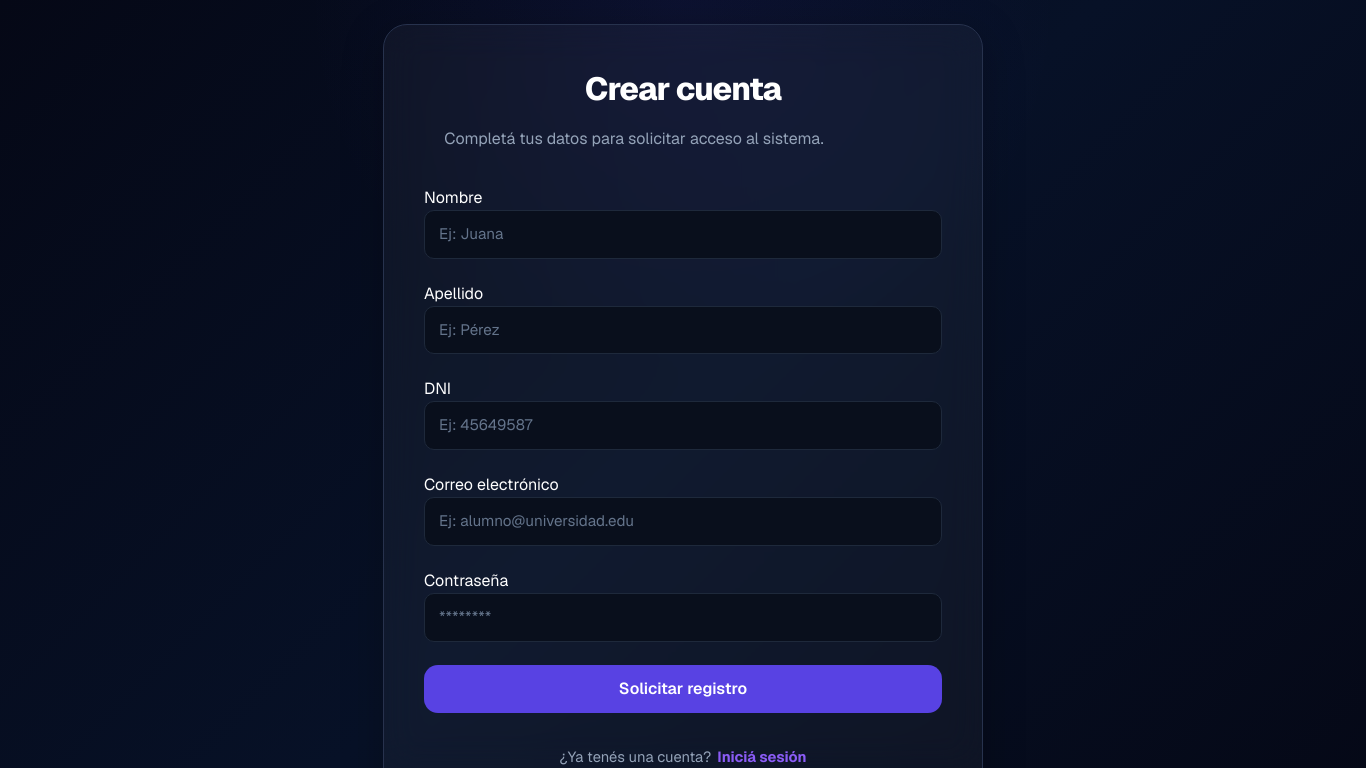
Pagina registro › muestra error genérico cuando backend rechaza sin mensaje
This screenshot has width=1366, height=768.
Step 1. Type "Ana" into the field with placeholder "Ej: Juana" → (683, 234), box [424, 210, 942, 259]
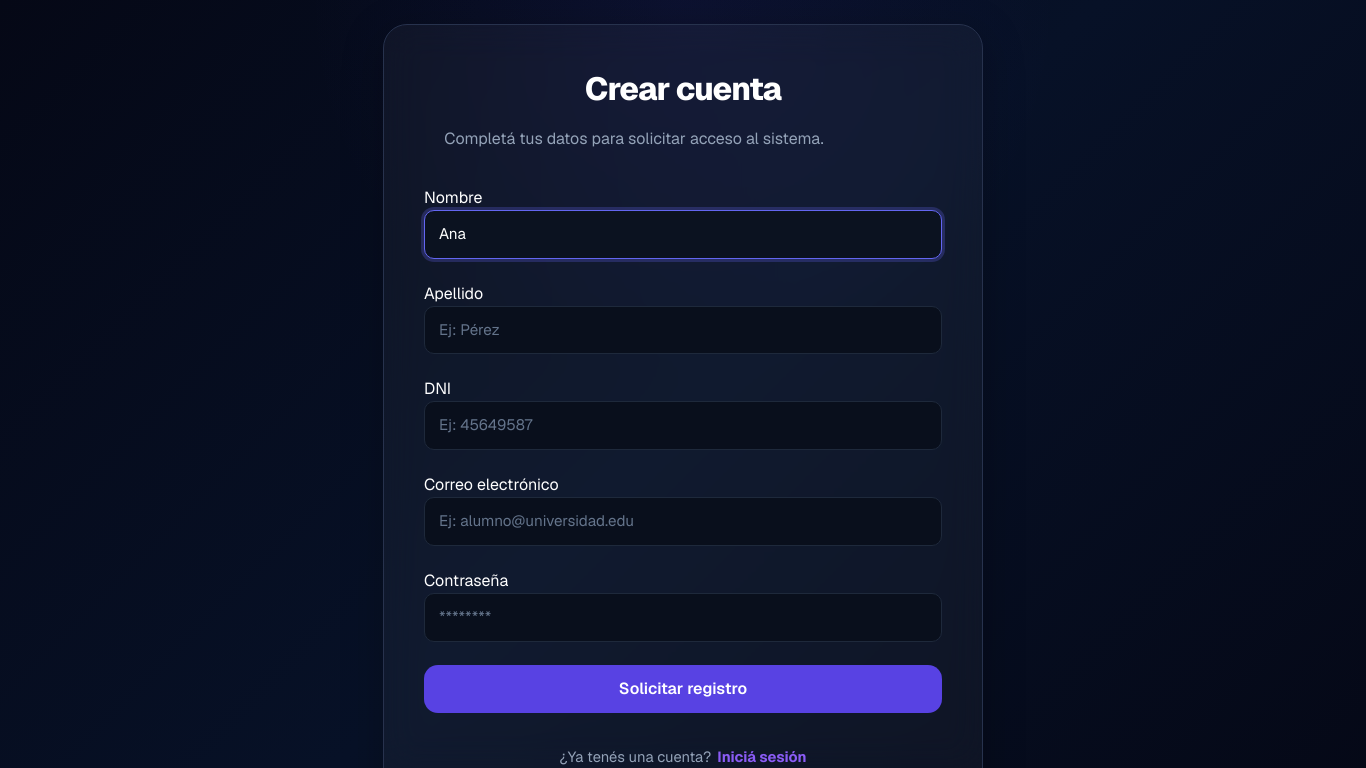
Step 2. Type "Lopez" into the field with placeholder "Ej: Pérez" → (683, 330), box [424, 306, 942, 354]
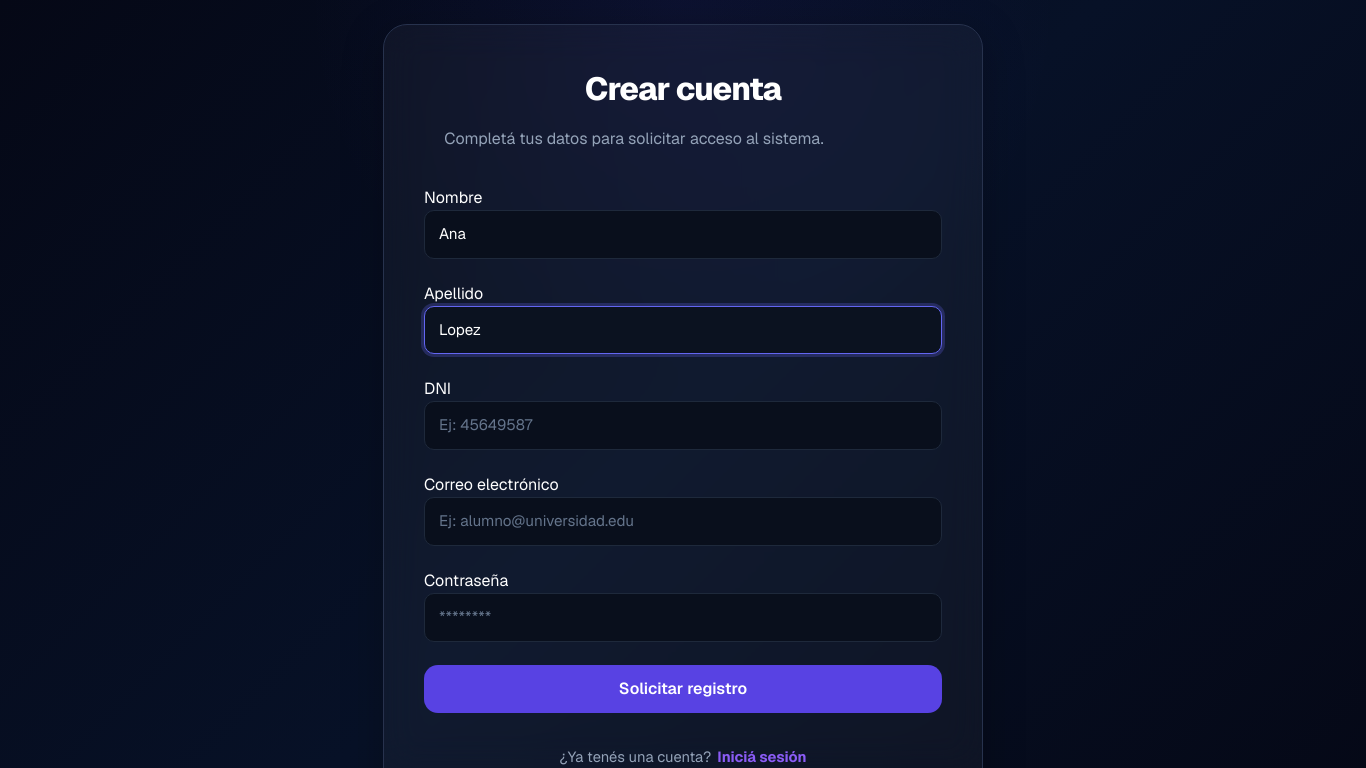
Step 3. Type "22222222" into the number field with placeholder "Ej: 45649587" → (683, 426), box [424, 401, 942, 450]
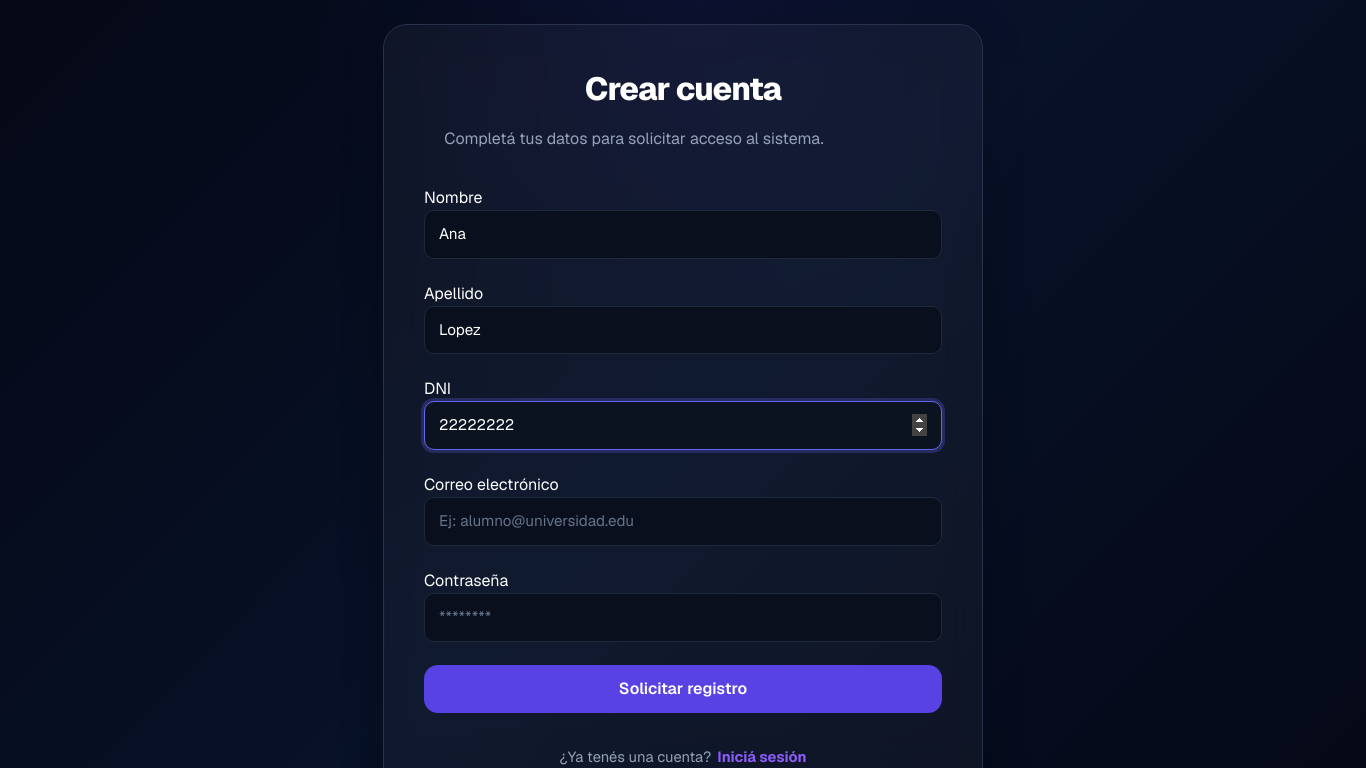
Step 4. Type "ana@gmail.com" into the field with placeholder "Ej: alumno@universidad.edu" → (683, 522), box [424, 497, 942, 546]
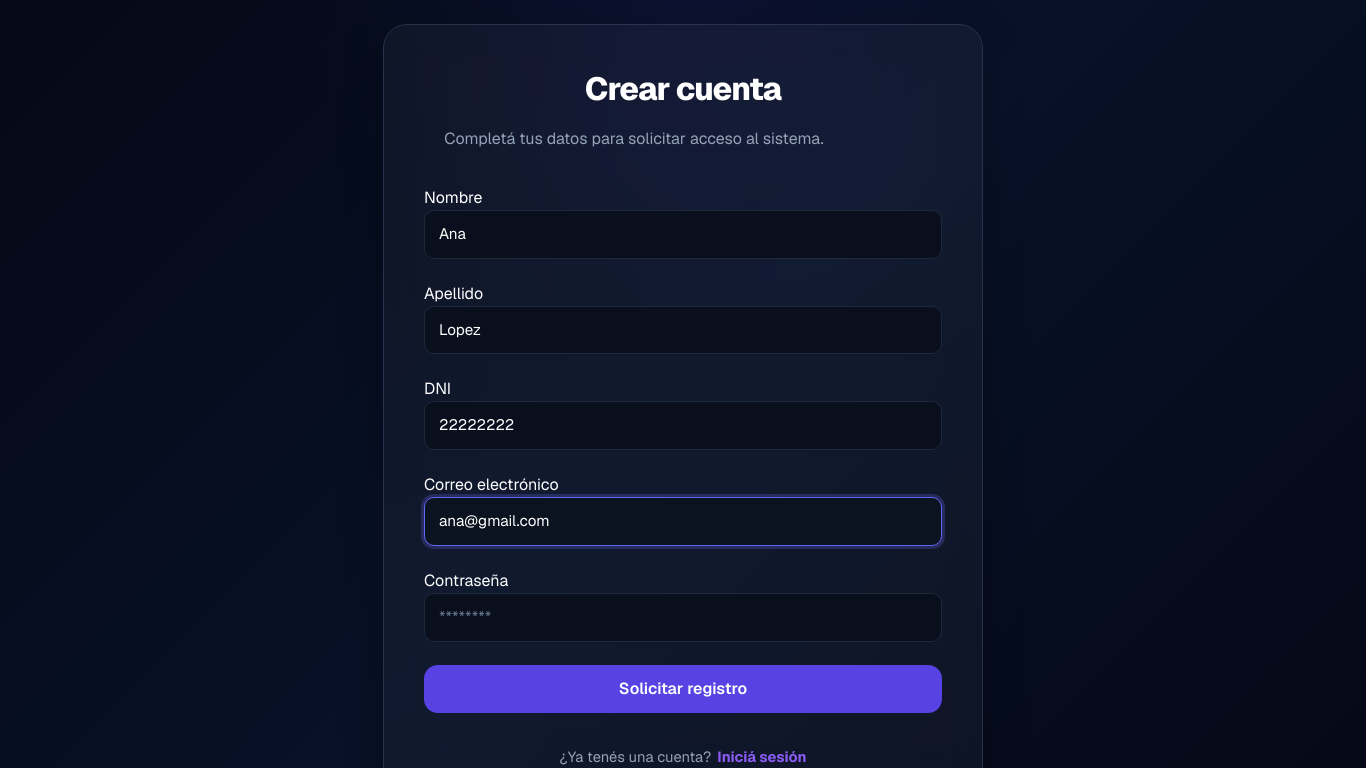
Step 5. Type "1234" into the password field with placeholder "********" → (683, 617), box [424, 593, 942, 642]
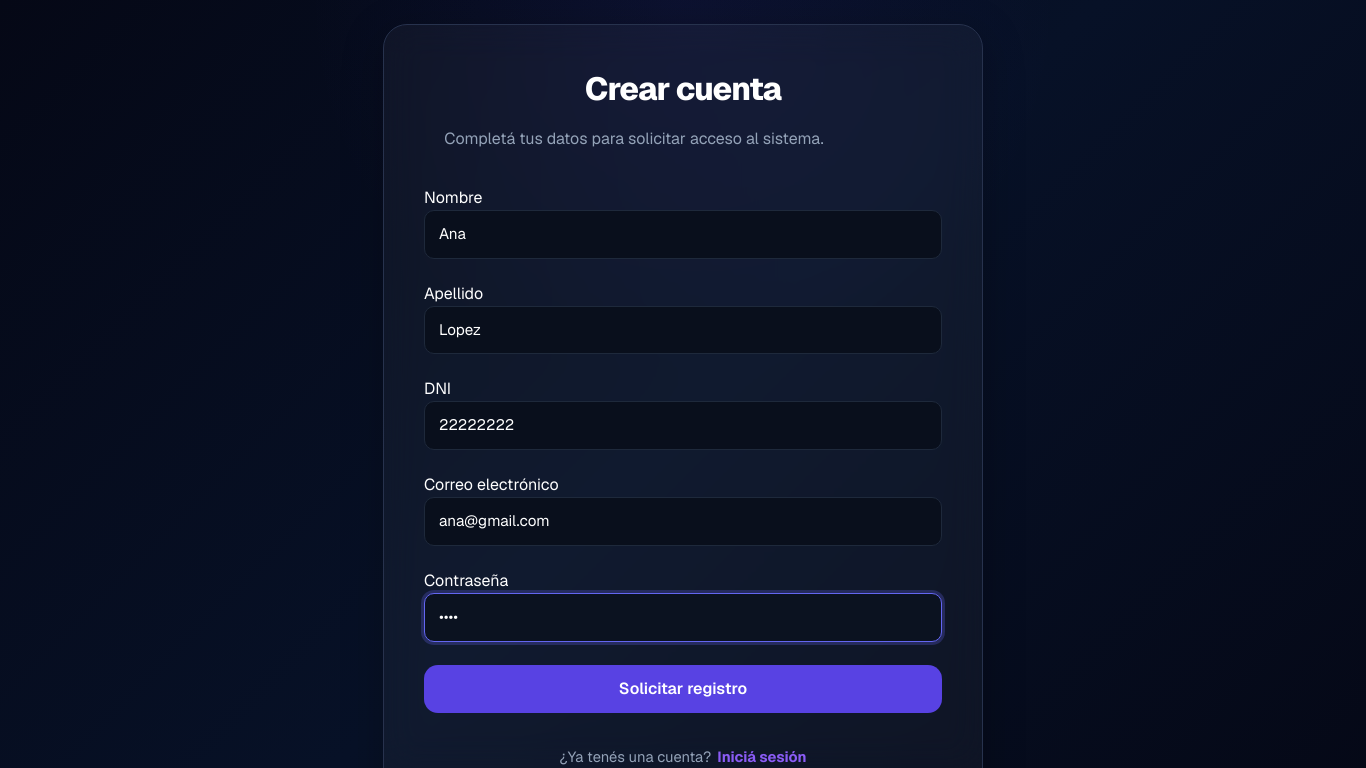
Step 6. Click the button "Solicitar registro" → (683, 689), box [424, 665, 942, 713]
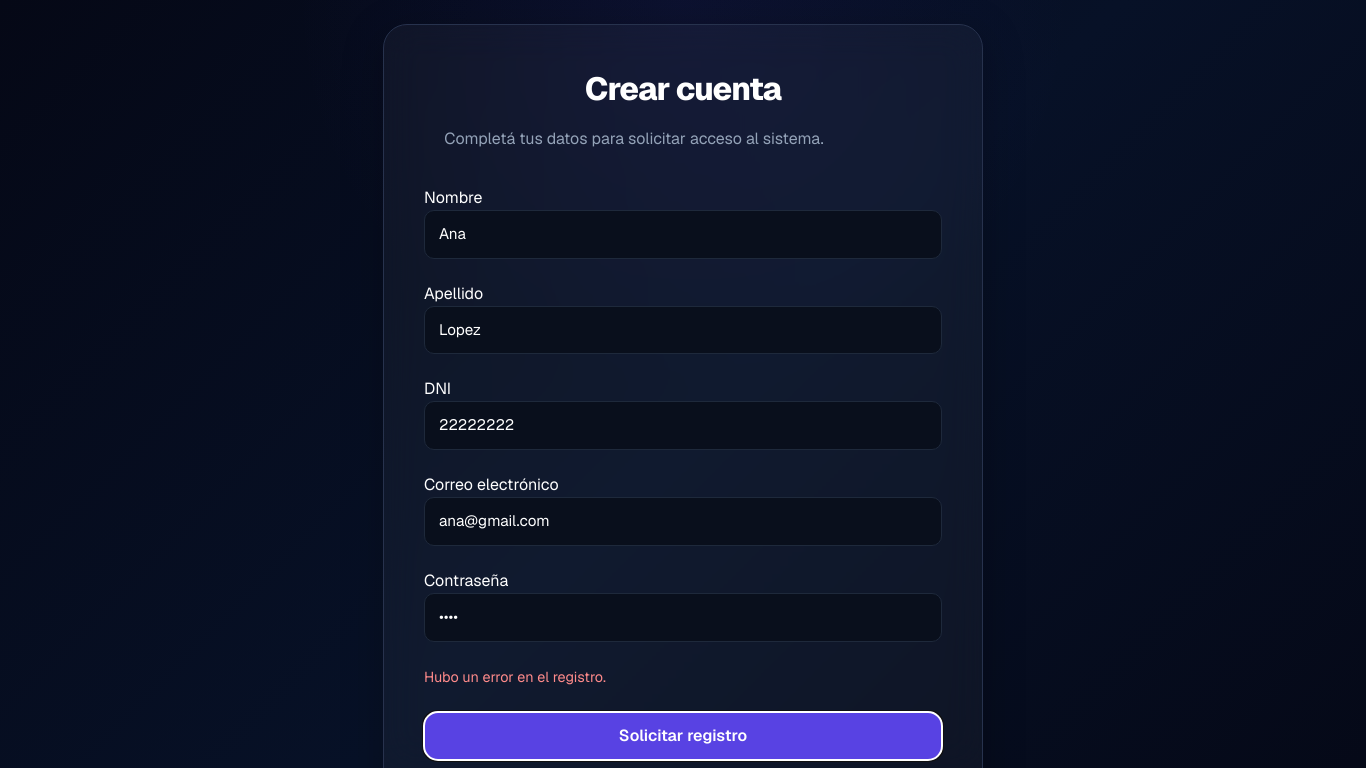
Check: the text "Hubo un error en el registro." is shown, box [424, 668, 606, 686]
